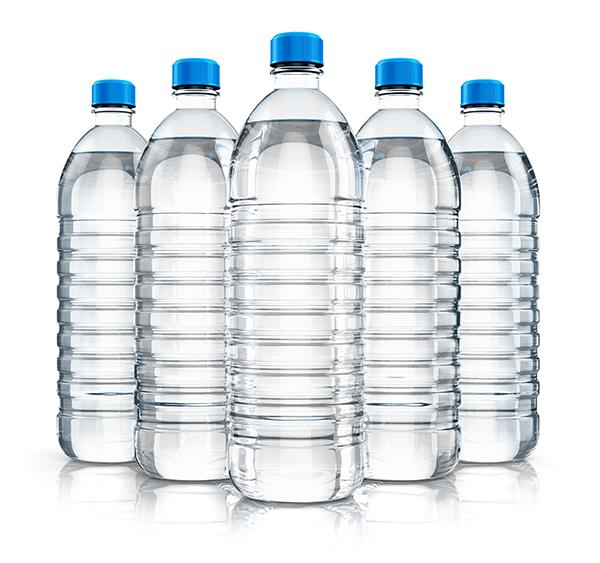plastic_bottle: (227, 29, 369, 510), (134, 50, 251, 484), (352, 53, 463, 484), (444, 75, 544, 472), (50, 75, 149, 469)
